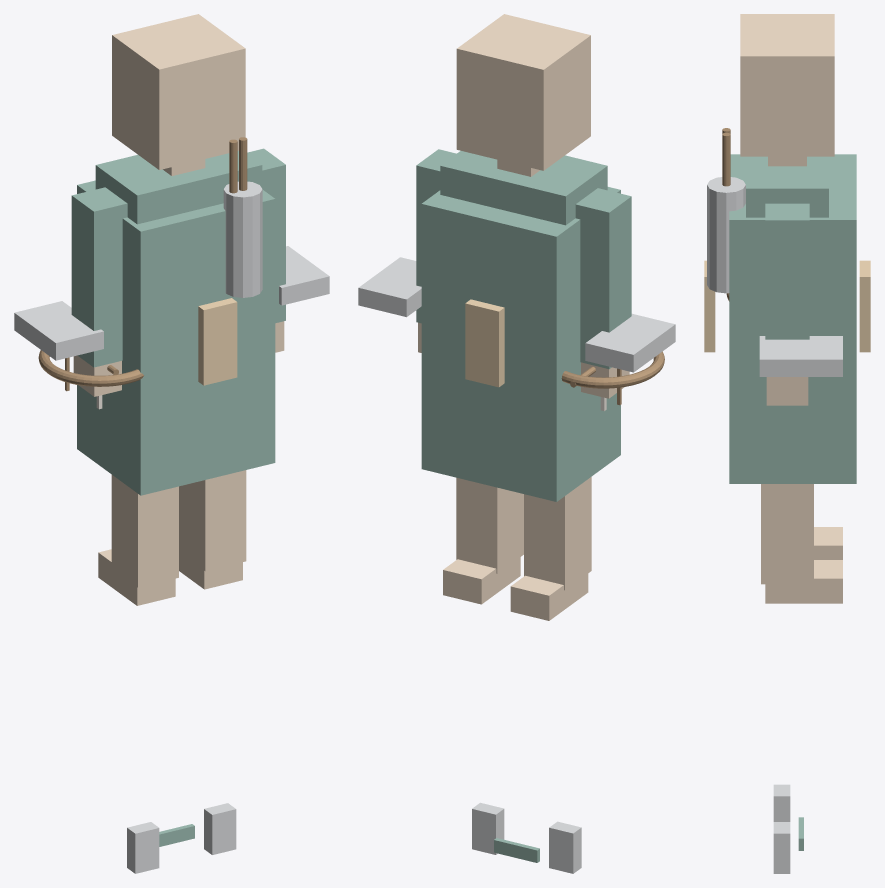
File: artemis.glb
3 views of the same model, side by side, from view 1: azimuth 30°, elevation 25°; view 2: azimuth 150°, elevation 25°; view 3: azimuth 270°, elevation 25° (orthographic).
Visible parts, largest first — view 1: outfit_tunic_0, head, arm_L_upper, torso, leg_L_shin, leg_R_shin, outfit_quiver_0, outfit_armor_2, outfit_armor_4, arm_R_upper, outfit_armor_1, leg_L_foot (+5 smaller); view 2: outfit_tunic_0, head, torso, arm_L_upper, leg_L_shin, leg_R_shin, outfit_armor_2, outfit_armor_3, outfit_armor_1, leg_L_foot, leg_R_foot, arm_R_upper (+5 smaller); view 3: outfit_tunic_0, head, arm_R_upper, leg_R_shin, torso, outfit_armor_1, outfit_quiver_0, leg_R_foot, arm_R_hand, outfit_armor_3, leg_L_foot, outfit_sandals_1 (+4 smaller).
Part boxes in pixels (x1,y1,x2,y2): outfit_tunic_0: (77, 180, 275, 495); head: (112, 14, 245, 169); arm_L_upper: (71, 187, 127, 367); torso: (95, 151, 262, 224); leg_L_shin: (111, 475, 178, 587); leg_R_shin: (179, 470, 246, 571); outfit_quiver_0: (223, 181, 262, 297); outfit_armor_2: (14, 301, 103, 360); outfit_armor_4: (198, 298, 237, 385); arm_R_upper: (247, 148, 285, 323); outfit_armor_1: (279, 246, 329, 305); leg_L_foot: (98, 549, 175, 605); outfit_tunic_0: (421, 187, 620, 501); head: (456, 14, 590, 170); torso: (440, 151, 607, 225); arm_L_upper: (575, 188, 631, 369); leg_L_shin: (524, 477, 591, 590); leg_R_shin: (456, 477, 523, 573); outfit_armor_2: (585, 313, 675, 372); outfit_armor_3: (465, 299, 504, 387); outfit_armor_1: (358, 257, 421, 317); leg_L_foot: (510, 574, 588, 620); leg_R_foot: (443, 557, 520, 604); arm_R_upper: (416, 149, 456, 323); outfit_tunic_0: (729, 154, 856, 483); head: (740, 14, 834, 156); arm_R_upper: (765, 203, 809, 339); leg_R_shin: (761, 484, 813, 584); torso: (746, 156, 828, 217); outfit_armor_1: (759, 336, 842, 376); outfit_quiver_0: (707, 177, 745, 293); leg_R_foot: (765, 560, 842, 603); arm_R_hand: (766, 377, 808, 405); outfit_armor_3: (859, 260, 870, 352); leg_L_foot: (814, 527, 842, 559); outfit_sandals_1: (773, 822, 790, 873).
Size of the model in its own units: 1.14 by 3.24 by 0.6.
